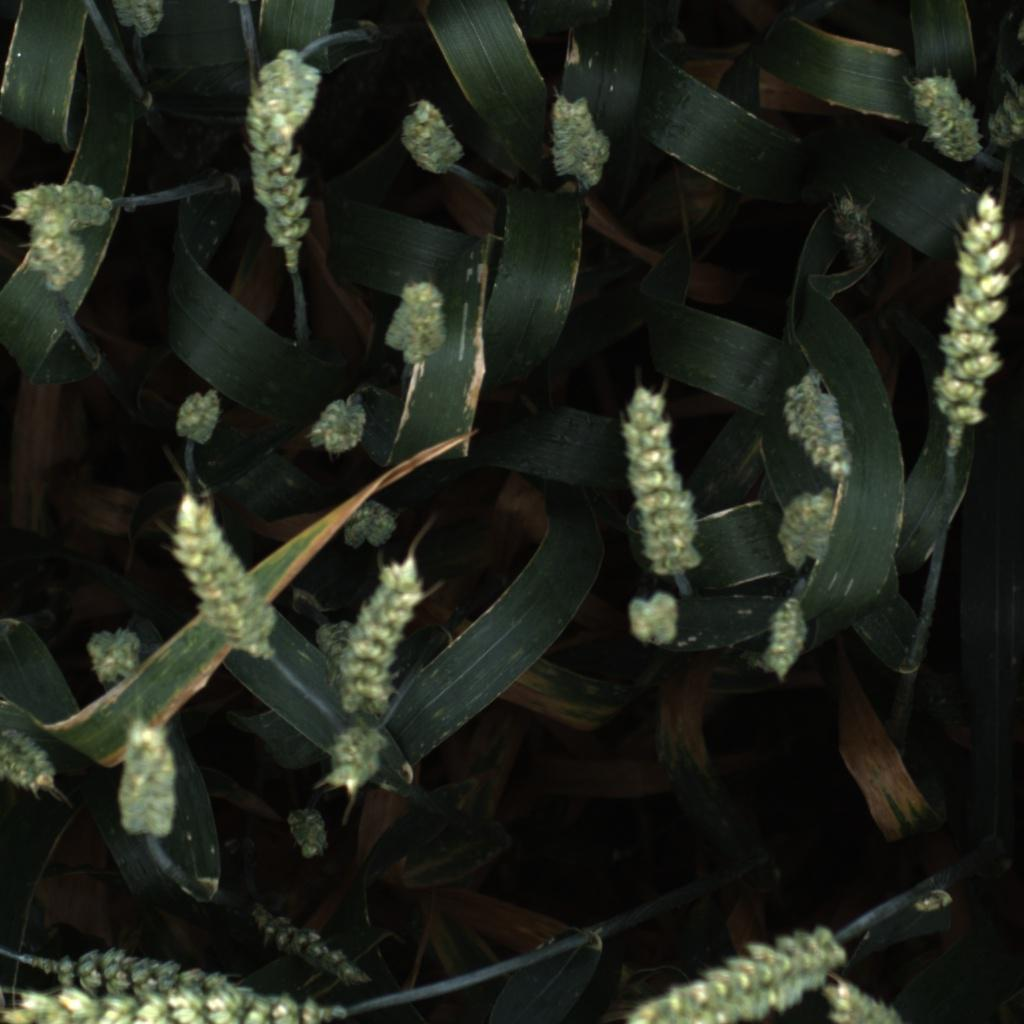0-0: (620, 915, 851, 1024), (924, 187, 1023, 438), (610, 379, 726, 578), (167, 495, 287, 664), (39, 931, 252, 1006), (232, 87, 319, 268), (342, 558, 442, 715), (256, 893, 375, 991), (775, 363, 870, 481), (111, 716, 189, 850), (1, 167, 122, 241), (900, 64, 988, 165), (539, 86, 618, 194), (305, 610, 381, 712), (379, 276, 457, 372), (260, 38, 335, 136), (397, 94, 472, 190), (769, 486, 844, 576), (314, 719, 399, 797), (18, 207, 90, 297), (820, 192, 888, 274), (758, 597, 816, 691), (302, 389, 379, 459), (0, 717, 63, 796), (79, 623, 150, 692), (828, 966, 909, 1024), (624, 588, 687, 658), (271, 799, 338, 863), (339, 493, 406, 555), (173, 386, 230, 452), (105, 0, 174, 44), (991, 75, 1024, 158)
